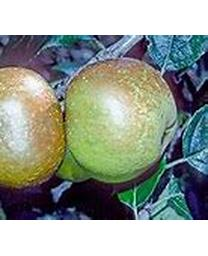apple: (64, 58, 178, 182)
